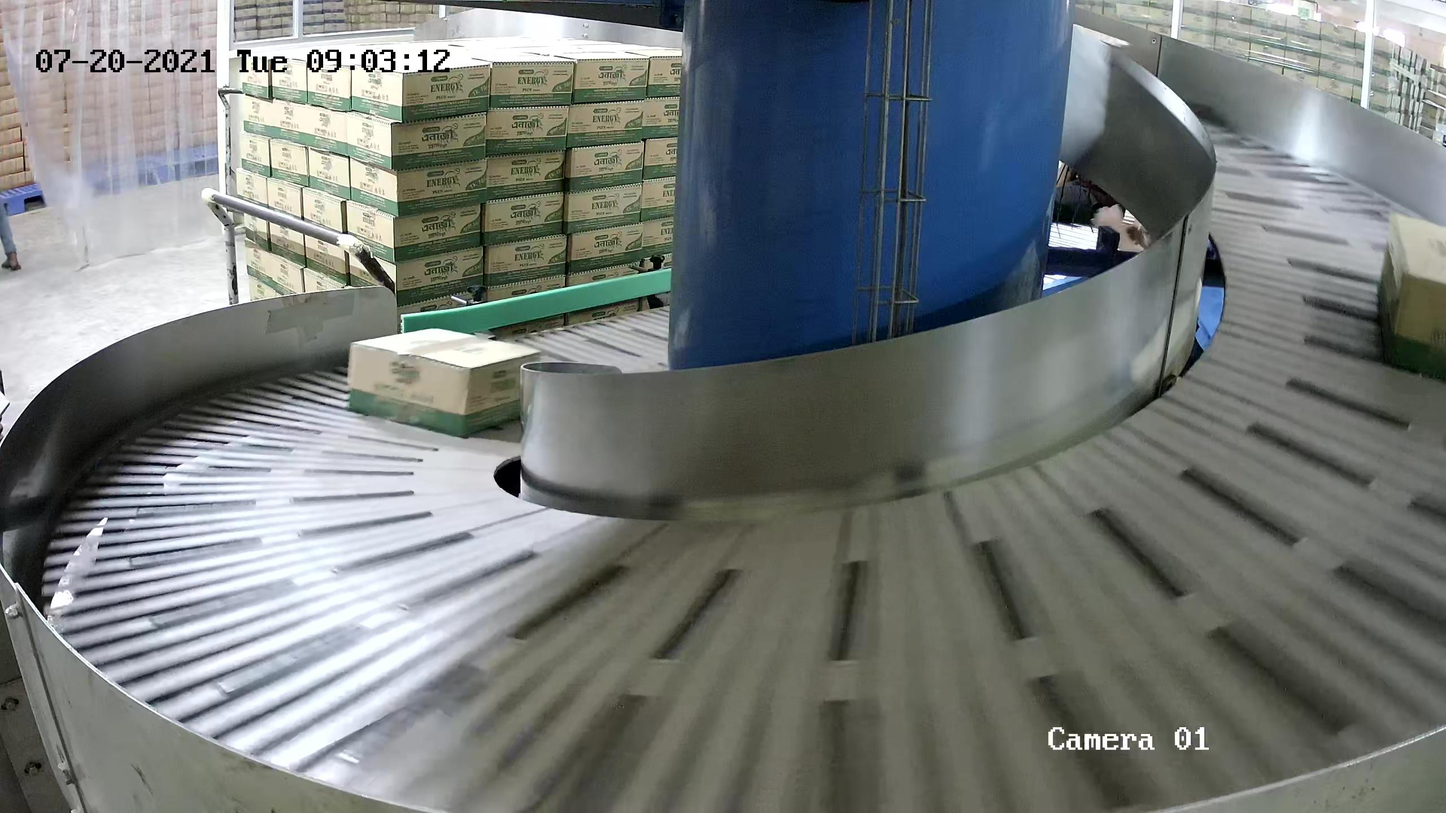Box: (347, 328, 542, 438), (1375, 213, 1446, 385)
